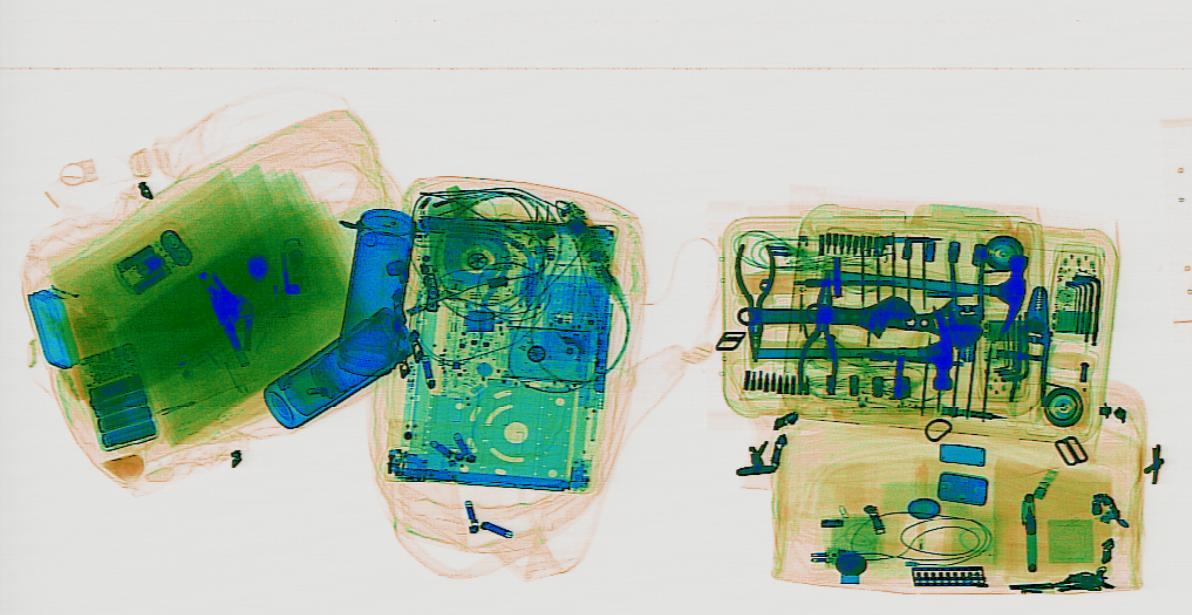Pliers: (790, 270, 855, 388), (1008, 286, 1060, 406), (731, 245, 778, 362)
Wrench: (736, 293, 987, 341), (802, 291, 923, 340)
